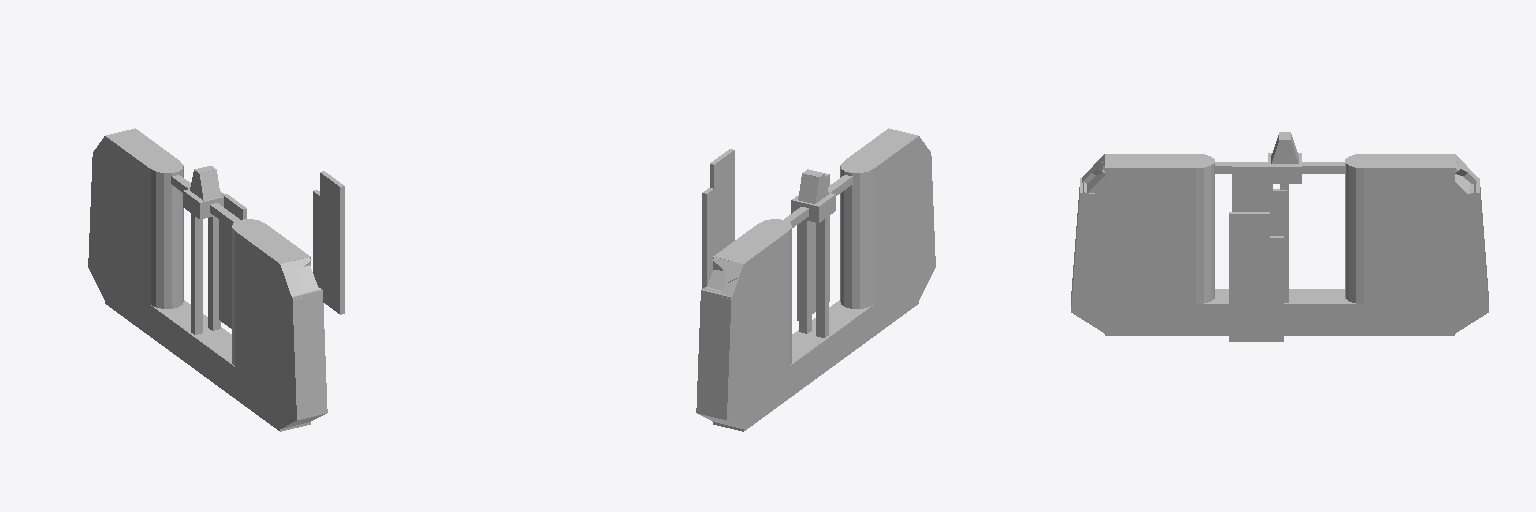
Rendered from depart_gate_block_right_open.obj.
3 renders of one model, left to right at view 1: azimuth 30°, elevation 25°; view 2: azimuth 150°, elevation 25°; view 3: azimuth 270°, elevation 25°, orthographic.
Parts seen in each view (by area): view 1: cube; view 2: cube; view 3: cube.
Boxes of the visible parts, <box> form: cube: <box>88,128,344,431</box>; cube: <box>696,128,935,431</box>; cube: <box>1071,132,1488,341</box>.
Bounding box in the file's own units: 1.04 × 1.51 × 2.96.